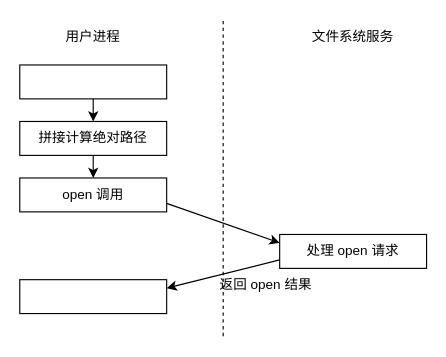
Some shapes in this 446 by 357 pixel diagram are drawn without their labels. The centre of each missing label's shape, as x and y in pixels:
openat 调用: the point at 93,81
完成 open 请求: the point at 93,296
